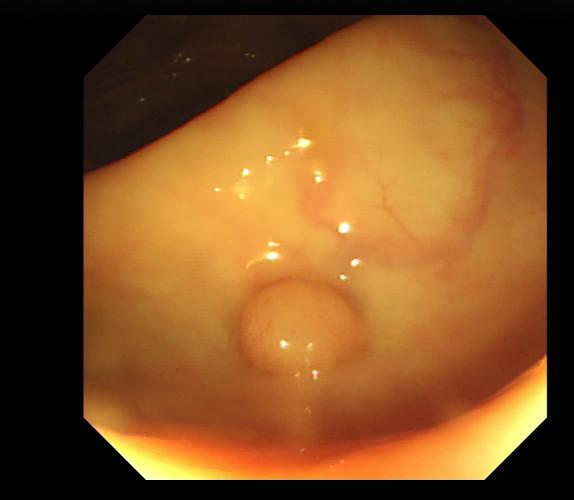polyp: (236, 277, 367, 376)
